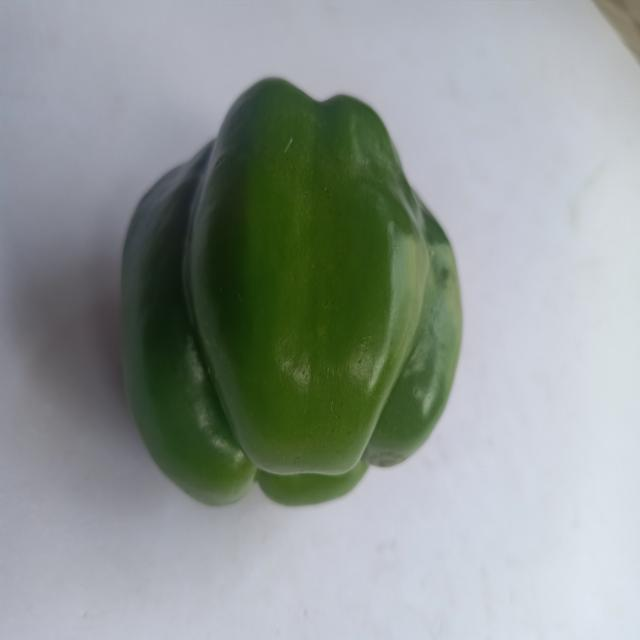Capsicum: (112, 67, 488, 527)
